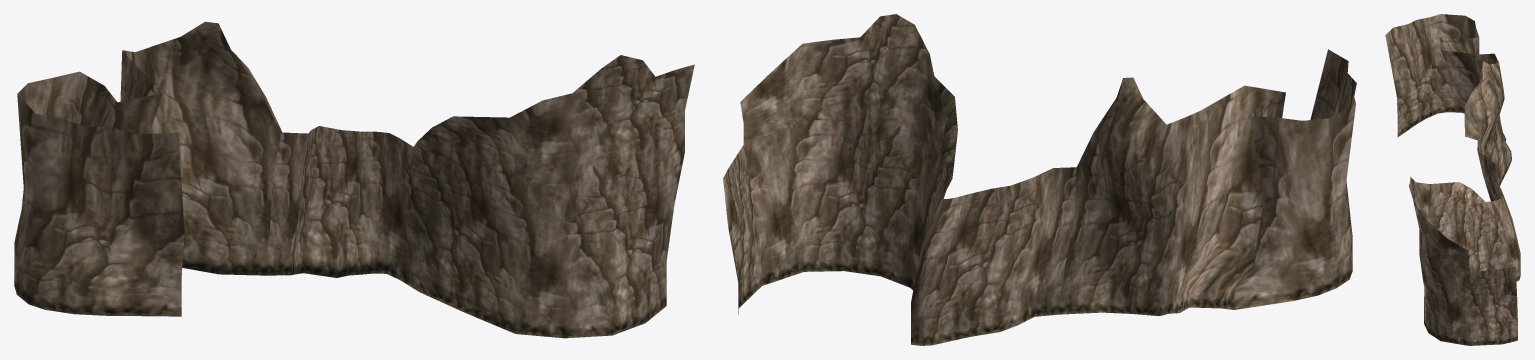
File: OVERHILL_A_01_SHAPE01.fbx
3 views of the same model, side by side, from view 1: azimuth 30°, elevation 25°; view 2: azimuth 150°, elevation 25°; view 3: azimuth 270°, elevation 25° (orthographic). The views are drawn at different scales.
Parts seen in each view (by area): view 1: OVERHILL_A_01_SHAPE01; view 2: OVERHILL_A_01_SHAPE01; view 3: OVERHILL_A_01_SHAPE01.
Boxes of the visible parts, x1,y1,x2,y2 form: OVERHILL_A_01_SHAPE01: (14, 21, 694, 338); OVERHILL_A_01_SHAPE01: (723, 14, 1356, 345); OVERHILL_A_01_SHAPE01: (1385, 14, 1520, 345).
Bounding box in the file's own units: 297568 × 149497 × 103145.
2 materials, 2 textured.
